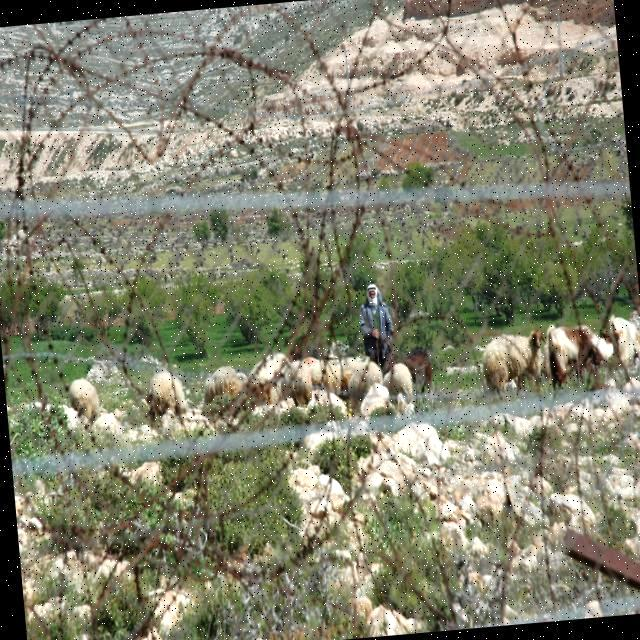sheep: (482, 329, 544, 393), (548, 325, 602, 387), (608, 314, 640, 360)
